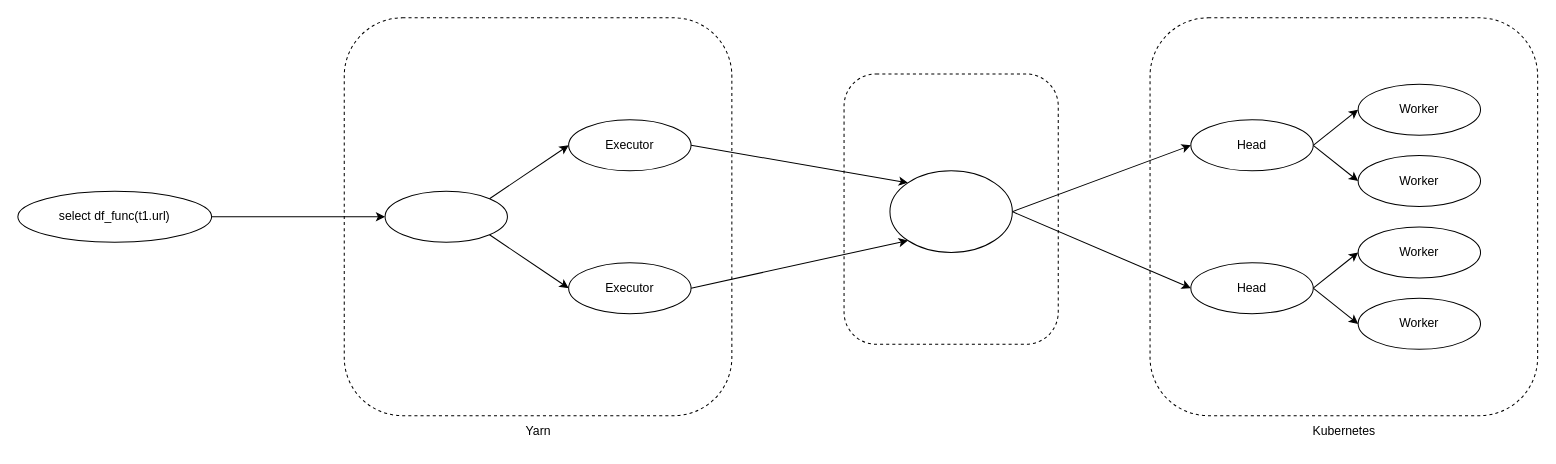
This 1556x464 diagram has some shape labels left out. Here are the shapes that lost their labels. From the top down, the centre of each, then its label:
At (x=445, y=216): "Driver".
At (x=950, y=211): "Ray Service".
